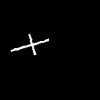single_crochet: (11, 34, 48, 54)
